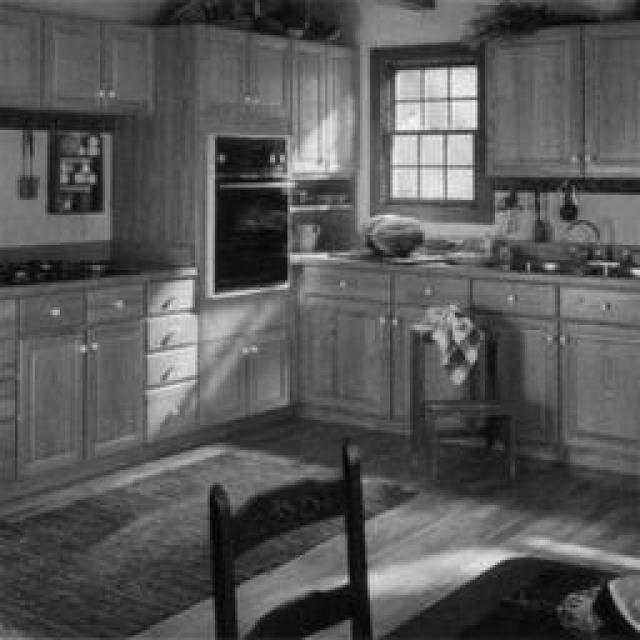chair: (407, 308, 508, 501)
